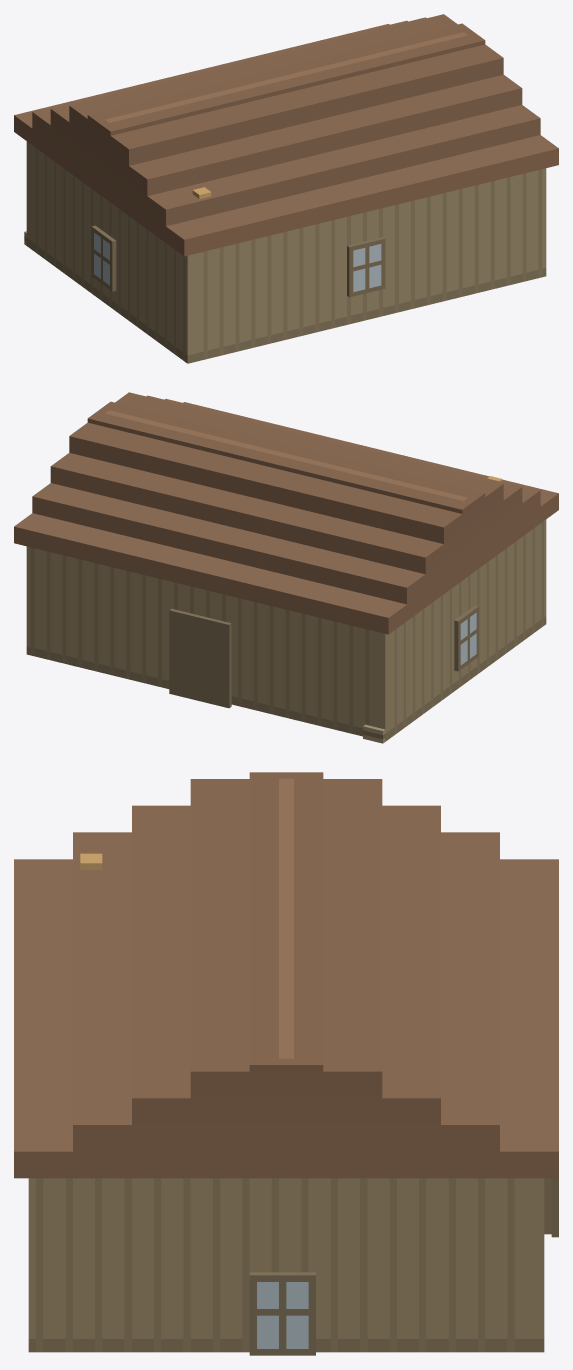
Rendered from destileria_04.glb.
The picture shows the model from 3 angles, top to bottom: view 1: azimuth 30°, elevation 25°; view 2: azimuth 150°, elevation 25°; view 3: azimuth 270°, elevation 25°; orthographic projection. The views are drawn at different scales.
Parts seen in each view (by area): view 1: destileria_04; view 2: destileria_04; view 3: destileria_04.
Part boxes in pixels (left/top/right/bottom): destileria_04: left=14, top=14, right=558, bottom=363; destileria_04: left=14, top=392, right=558, bottom=743; destileria_04: left=14, top=772, right=558, bottom=1355.
Size of the model in its own units: 9.4 by 4.4 by 7.4.
